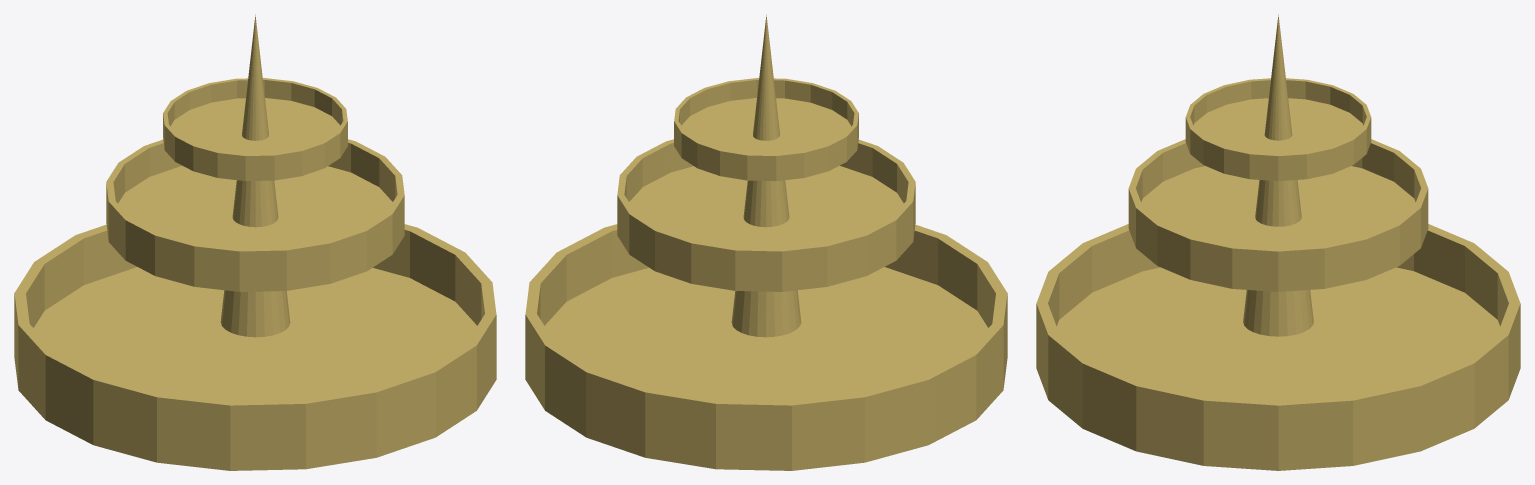
Rendered from Fountain.glb.
The picture shows the model from 3 angles, left to right: view 1: azimuth 30°, elevation 25°; view 2: azimuth 150°, elevation 25°; view 3: azimuth 270°, elevation 25°; orthographic projection.
Visible parts, largest first — view 1: Mesh_Mesh_head_geo.001_lambert2SG.001; view 2: Mesh_Mesh_head_geo.001_lambert2SG.001; view 3: Mesh_Mesh_head_geo.001_lambert2SG.001.
Part boxes in pixels (box(x1,y1,x2,y2)): Mesh_Mesh_head_geo.001_lambert2SG.001: box(14, 14, 496, 470); Mesh_Mesh_head_geo.001_lambert2SG.001: box(525, 14, 1007, 470); Mesh_Mesh_head_geo.001_lambert2SG.001: box(1036, 14, 1520, 470).
Bounding box in the file's own units: 47 × 38 × 47.
